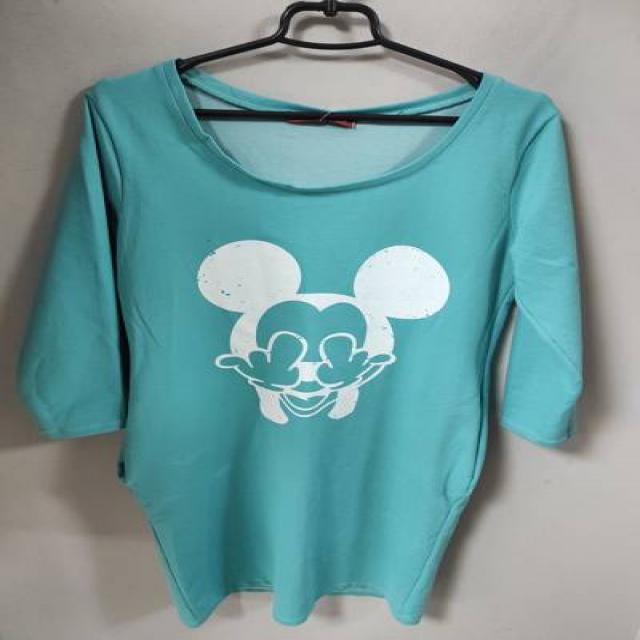Clothes -Biodegradable-: (17, 58, 592, 628)
